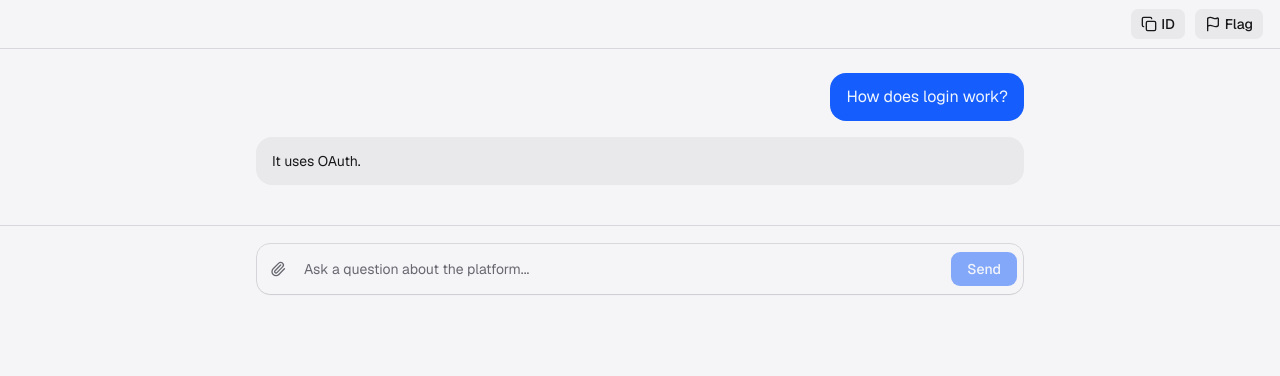
Test case: ChatThread › a text_break before any text does not open a leading empty bubble
Expected: the text "It uses OAuth." is shown, top-left (272, 152), bottom-right (361, 170)
Type "How?" into the text box named "message" at (622, 269), box top-left (294, 251), bottom-right (950, 287)
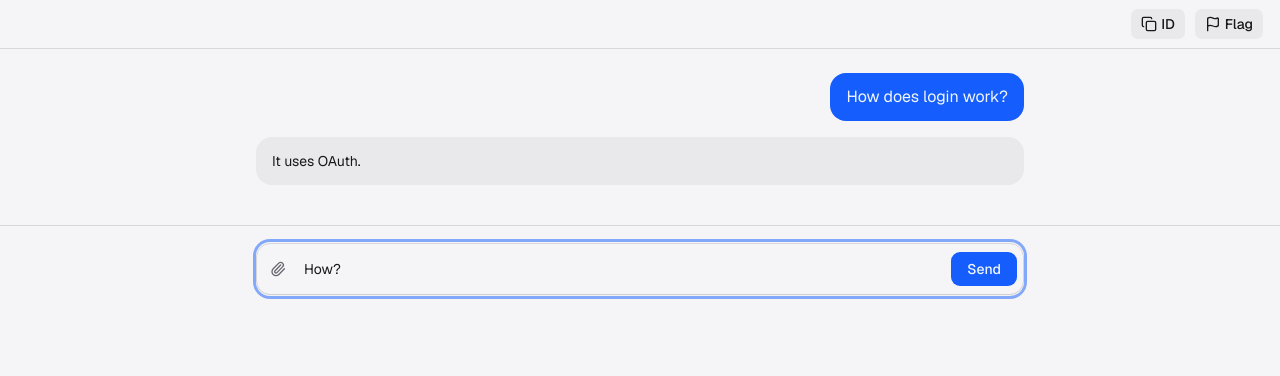
Click the button "Send" at (984, 269), box top-left (950, 251), bottom-right (1018, 287)
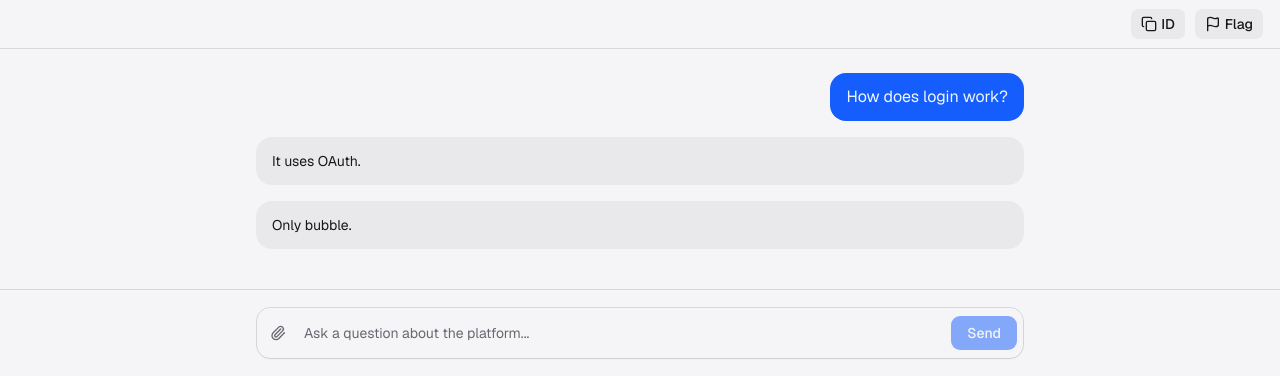
Expected: the text "Only bubble." is shown, top-left (272, 216), bottom-right (352, 234)
